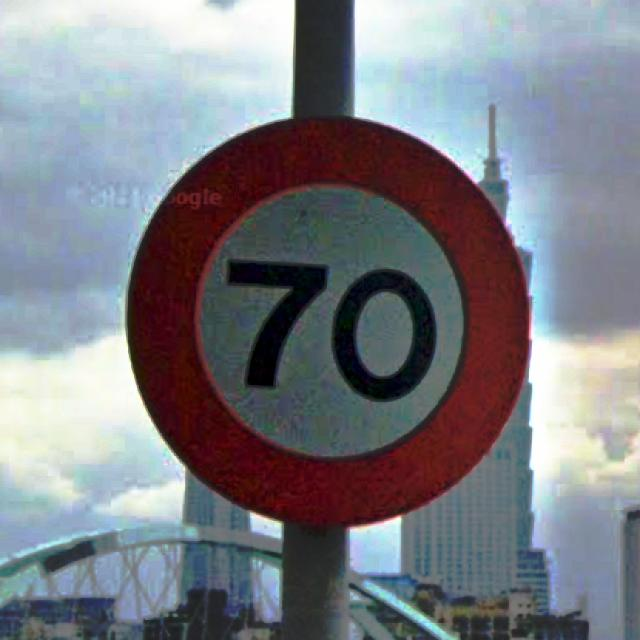max70: (123, 112, 532, 530)
